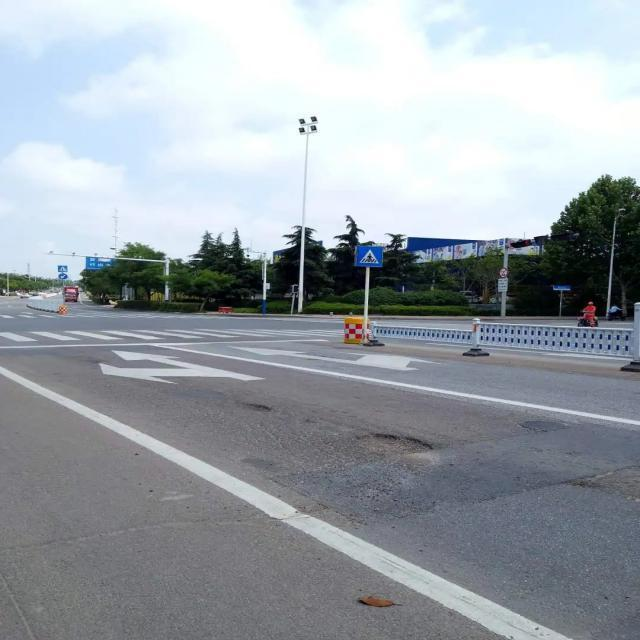pothole: (357, 434, 429, 455), (234, 400, 276, 417)
